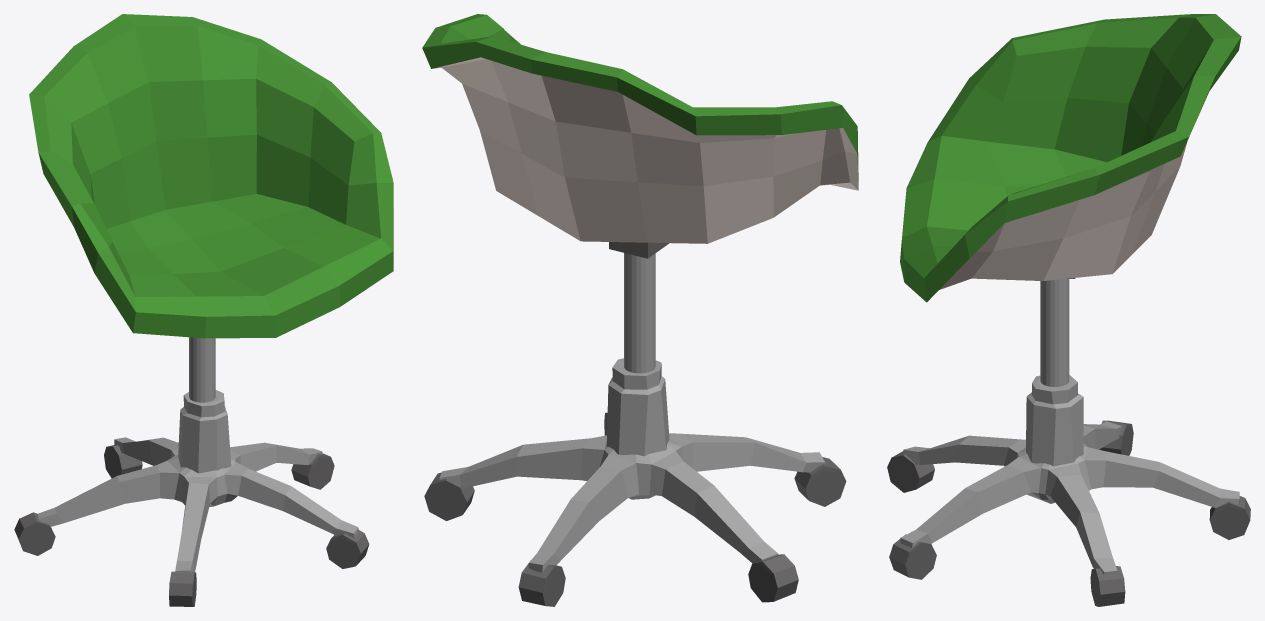
File: Chair_4.fbx
The picture shows the model from 3 angles, left to right: view 1: azimuth 30°, elevation 25°; view 2: azimuth 150°, elevation 25°; view 3: azimuth 270°, elevation 25°; orthographic projection. The views are drawn at different scales.
Visible parts, largest first — view 1: Chair_4; view 2: Chair_4; view 3: Chair_4.
Boxes of the visible parts, left/top/right/bottom form: Chair_4: left=14, top=14, right=393, bottom=606; Chair_4: left=422, top=14, right=858, bottom=606; Chair_4: left=887, top=14, right=1250, bottom=606.
Size of the model in its own units: 91.87 by 84.1 by 128.
